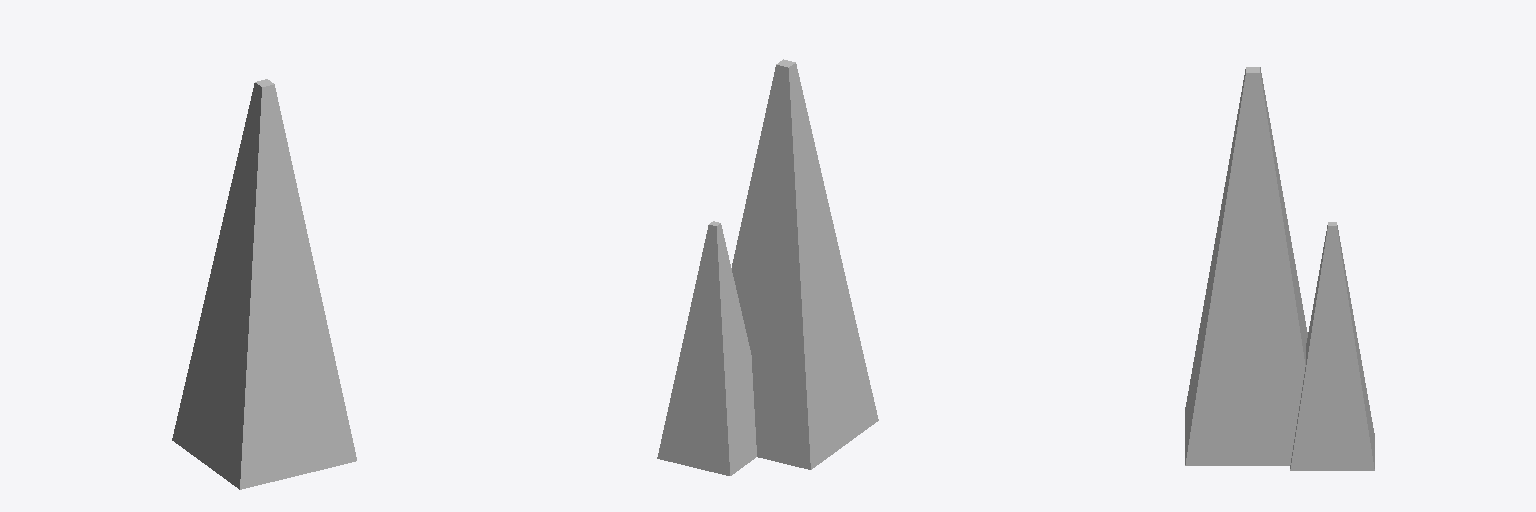
File: stalagtite.obj
The picture shows the model from 3 angles: view 1: azimuth 30°, elevation 25°; view 2: azimuth 150°, elevation 25°; view 3: azimuth 270°, elevation 25°; orthographic projection.
Parts seen in each view (by area): view 1: Cube; view 2: Cube, Cube.001; view 3: Cube, Cube.001.
Part boxes in pixels (x1,y1,x2,y2): Cube: (172, 79, 356, 489); Cube: (732, 59, 878, 469); Cube.001: (657, 221, 756, 475); Cube: (1185, 67, 1307, 465); Cube.001: (1290, 222, 1374, 470).
Size of the model in its own units: 2.16 by 5.97 by 2.79.